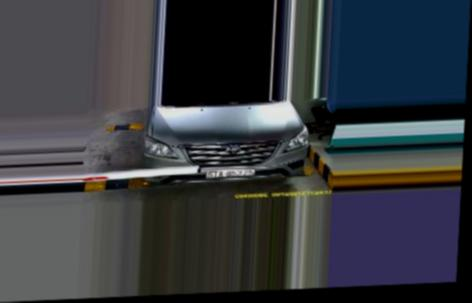License_Plate: (206, 165, 259, 180)
